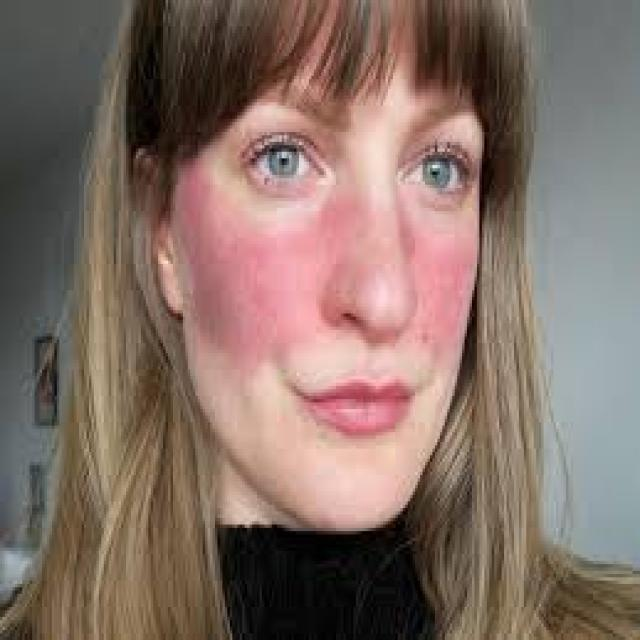Rosacea: (166, 166, 358, 355), (398, 216, 486, 361)
